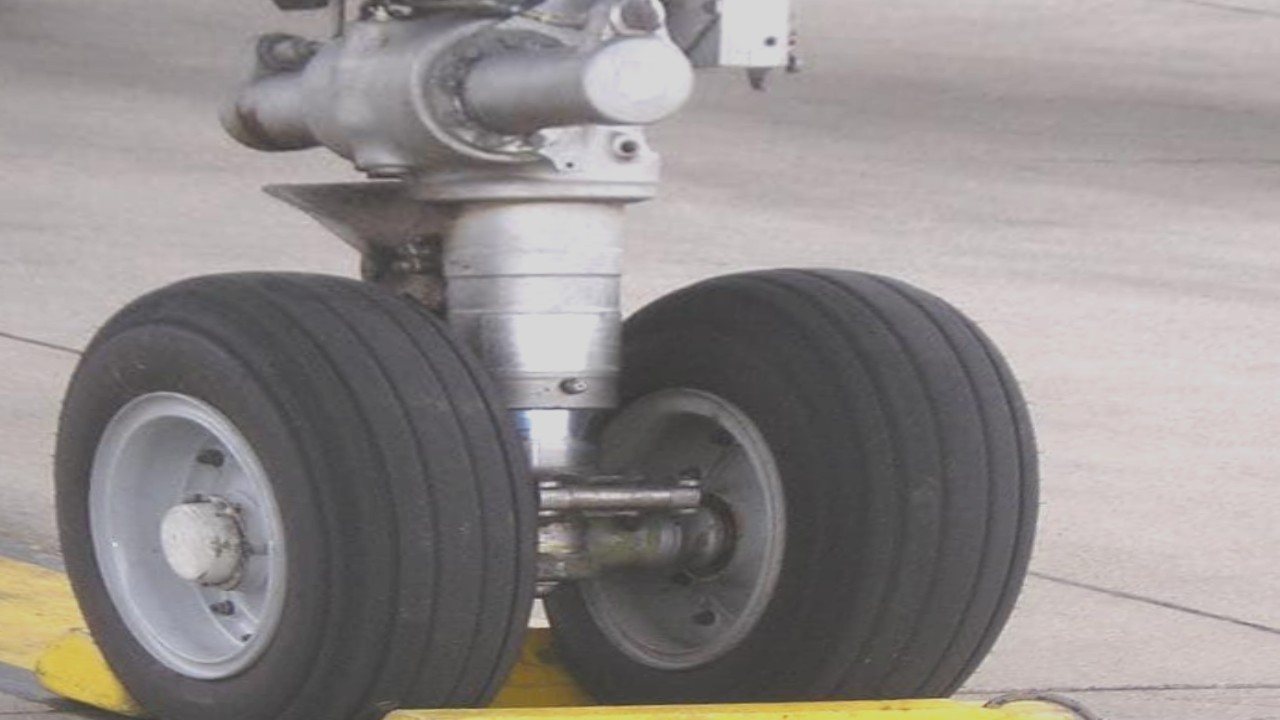wheel: (544, 259, 1117, 716), (32, 263, 546, 720)
